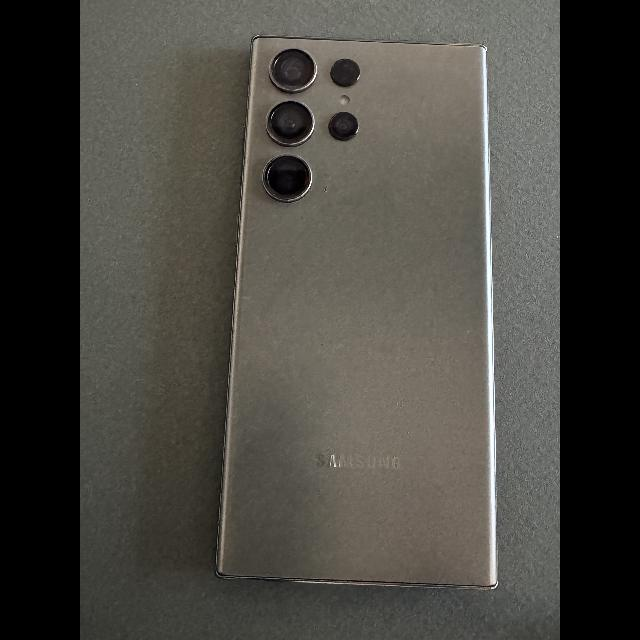lens: (267, 99, 314, 143), (265, 154, 309, 199), (270, 49, 315, 90), (332, 59, 359, 86)
phone: (215, 36, 497, 590)
